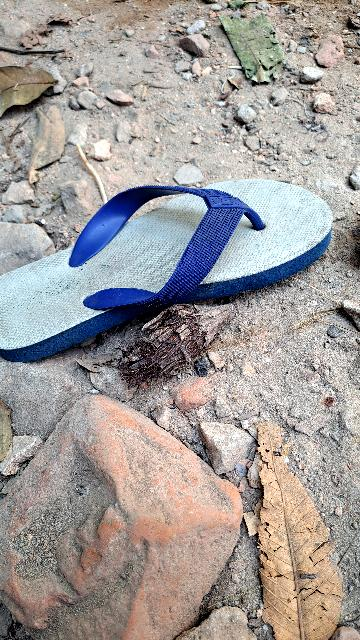sandal: (0, 148, 336, 367)
